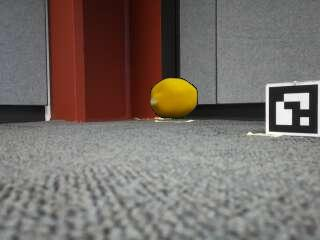lemon: (150, 79, 197, 119)
